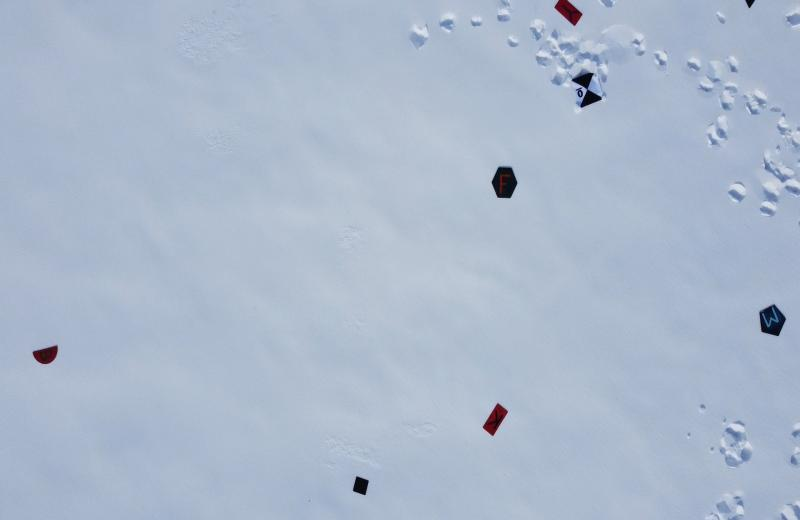Hexagon: (490, 164, 518, 199)
Pentagon: (760, 304, 786, 338)
Rectangle: (483, 400, 510, 438), (553, 0, 582, 27)
Semi Circle: (32, 346, 60, 366), (352, 477, 370, 497)
